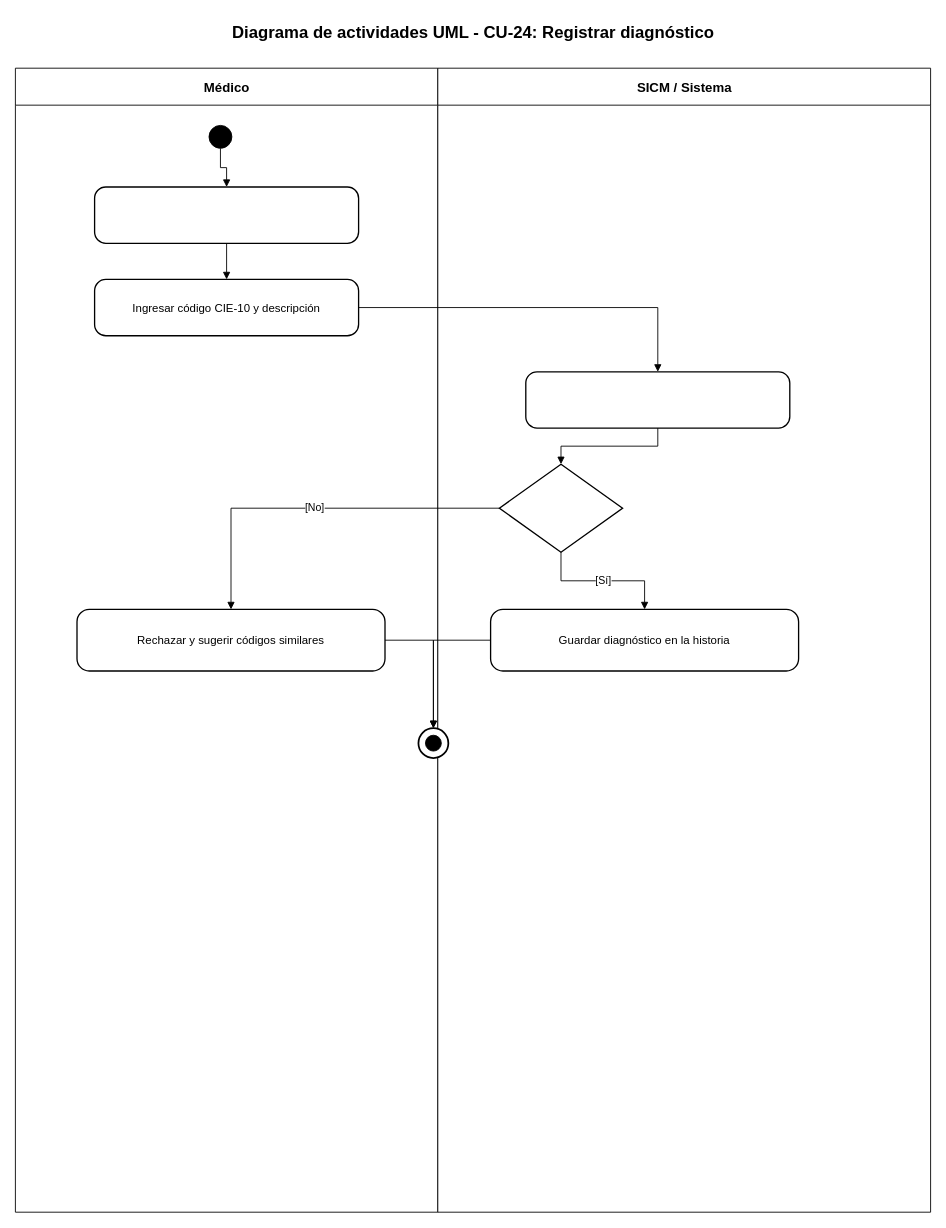
Some shapes in this 946 by 1228 pixel diagram are drawn without their labels. The centre of each missing label's shape, as x and y in pixels:
Seleccionar atención registrada: the point at 226,215
Validar código en catálogo: the point at 657,399
¿Código CIE-10 válido?: the point at 560,507
